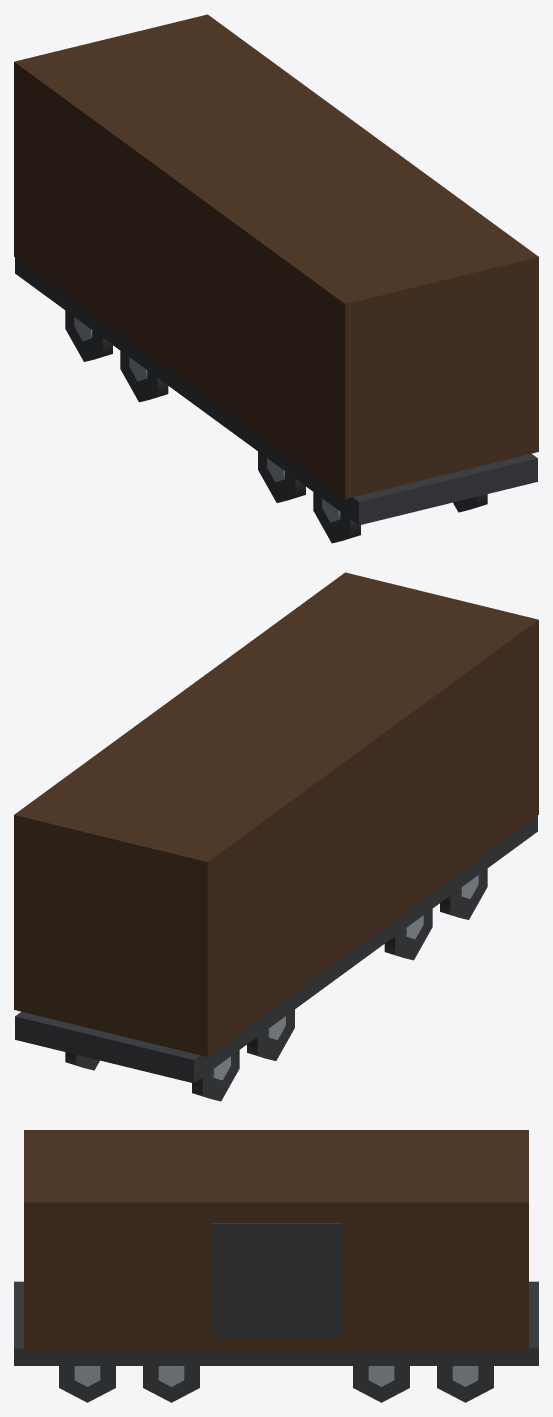
File: veh_ground_rail_wagon_a06_lod1.glb
3 views of the same model, one above another, from view 1: azimuth 30°, elevation 25°; view 2: azimuth 150°, elevation 25°; view 3: azimuth 270°, elevation 25° (orthographic). The views are drawn at different scales.
Parts seen in each view (by area): view 1: body, wheel_2, wheel_6, wheel_0, wheel_4; view 2: body, wheel_4, wheel_0, wheel_6, wheel_2; view 3: body, wheel_1, wheel_3, wheel_5, wheel_7.
Boxes of the visible parts, x1=… form: body: x1=14, y1=14, x2=538, y2=525; wheel_2: x1=120, y1=351, x2=168, y2=402; wheel_6: x1=313, y1=492, x2=360, y2=543; wheel_0: x1=65, y1=310, x2=112, y2=361; wheel_4: x1=258, y1=451, x2=305, y2=502; body: x1=14, y1=572, x2=538, y2=1083; wheel_4: x1=384, y1=909, x2=432, y2=960; wheel_0: x1=192, y1=1050, x2=239, y2=1101; wheel_6: x1=440, y1=868, x2=487, y2=919; wheel_2: x1=247, y1=1009, x2=294, y2=1060; body: x1=14, y1=1130, x2=538, y2=1365; wheel_1: x1=437, y1=1366, x2=493, y2=1402; wheel_3: x1=353, y1=1366, x2=409, y2=1402; wheel_5: x1=143, y1=1366, x2=199, y2=1402; wheel_7: x1=59, y1=1366, x2=115, y2=1402.
Bounding box in the file's own units: 2.63 × 3.55 × 8.
